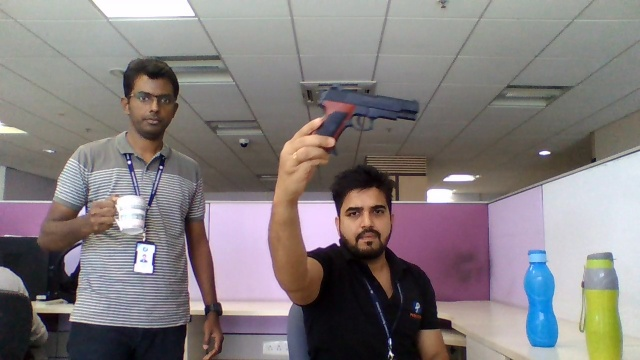gun: (322, 89, 419, 132)
